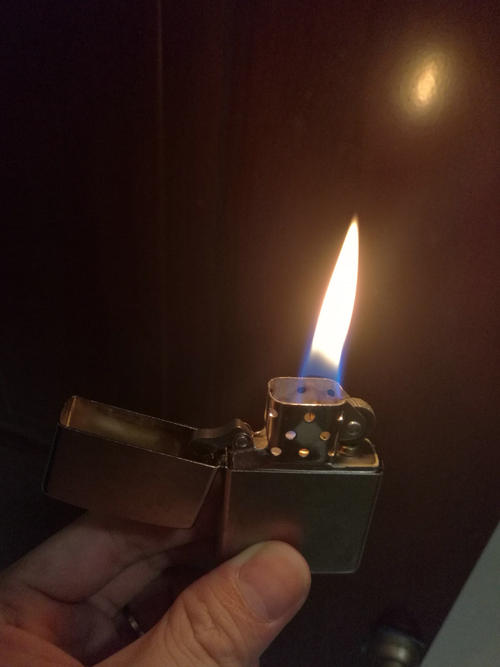fire: (287, 186, 371, 422)
